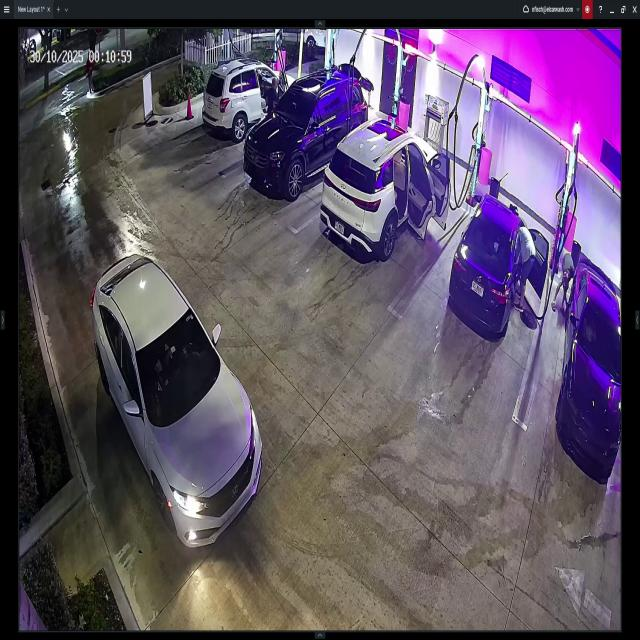Car: (90, 253, 261, 548), (322, 119, 449, 258), (245, 69, 368, 193), (449, 192, 547, 341), (557, 251, 621, 473), (202, 59, 278, 135), (300, 24, 330, 50)
